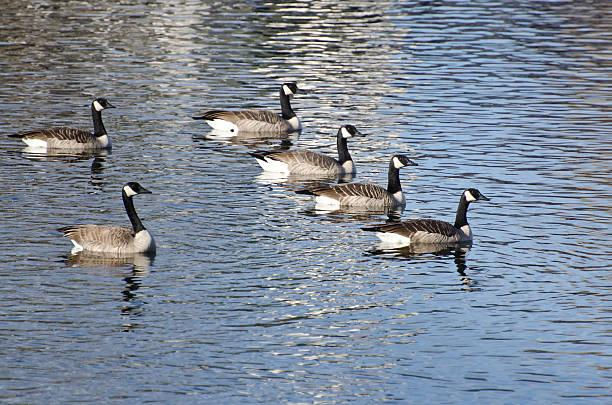Canadian-Goose: (364, 187, 490, 251), (60, 183, 162, 261), (196, 81, 318, 139), (10, 95, 117, 156), (300, 154, 410, 212), (255, 122, 361, 176)
